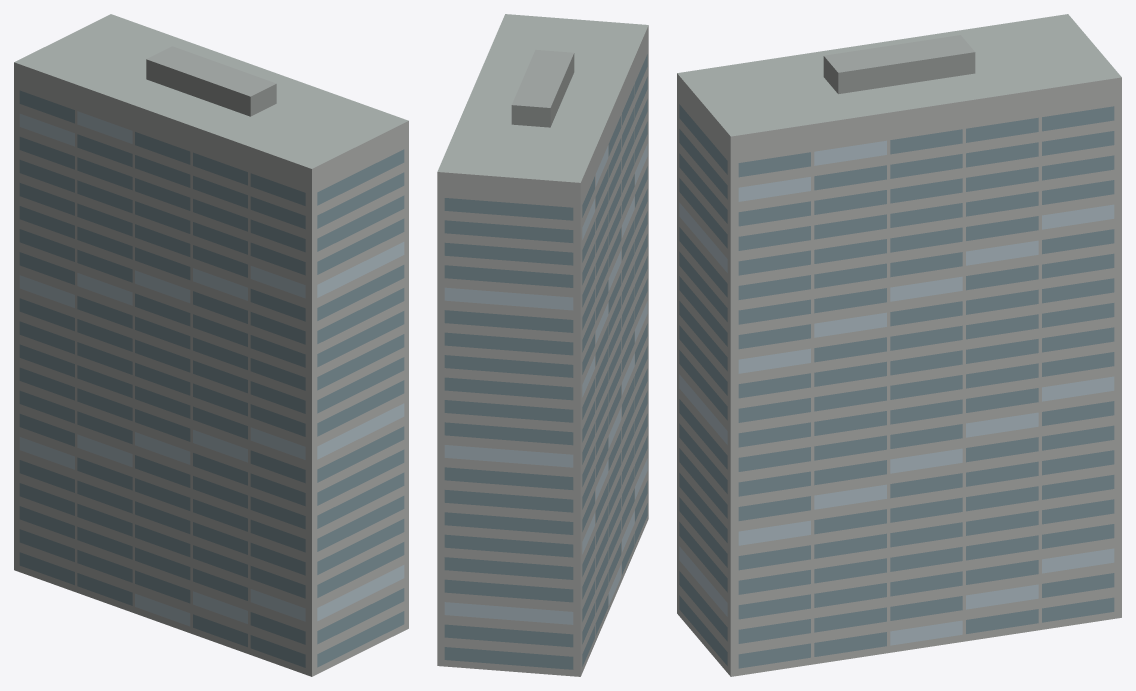
File: fallback-songpa-helio-city-307.glb
3 views of the same model, side by side, from view 1: azimuth 30°, elevation 25°; view 2: azimuth 150°, elevation 25°; view 3: azimuth 270°, elevation 25° (orthographic). The views are drawn at different scales.
Visible parts, largest first — view 1: fallback-songpa-helio-city-307; view 2: fallback-songpa-helio-city-307; view 3: fallback-songpa-helio-city-307.
Part boxes in pixels (<box>): fallback-songpa-helio-city-307: <box>14,14,408,676</box>; fallback-songpa-helio-city-307: <box>437,14,648,676</box>; fallback-songpa-helio-city-307: <box>677,14,1121,676</box>.
Size of the model in its own units: 29.49 by 63 by 45.22.
